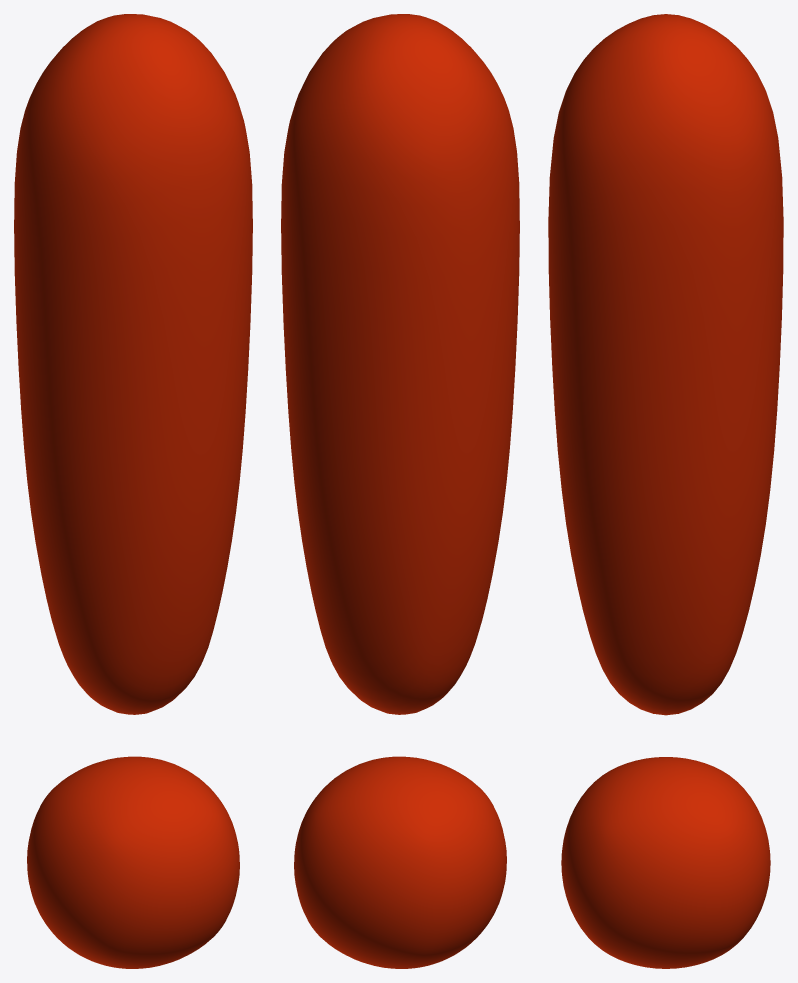
The model's file is 느낌표.fbx.
3 views of the same model, side by side, from view 1: azimuth 30°, elevation 25°; view 2: azimuth 150°, elevation 25°; view 3: azimuth 270°, elevation 25° (orthographic).
Parts seen in each view (by area): view 1: 느낌표; view 2: 느낌표; view 3: 느낌표.
Part boxes in pixels (x1=…): 느낌표: x1=14, y1=14, x2=252, y2=968; 느낌표: x1=281, y1=14, x2=519, y2=968; 느낌표: x1=548, y1=14, x2=783, y2=968.
Size of the model in its own units: 148 by 148 by 648.
